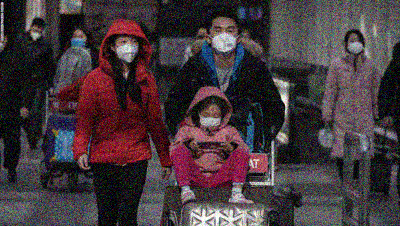with_mask: (208, 24, 238, 54), (113, 36, 139, 63), (198, 109, 224, 127), (345, 36, 363, 54), (29, 27, 43, 42), (71, 33, 88, 45)
